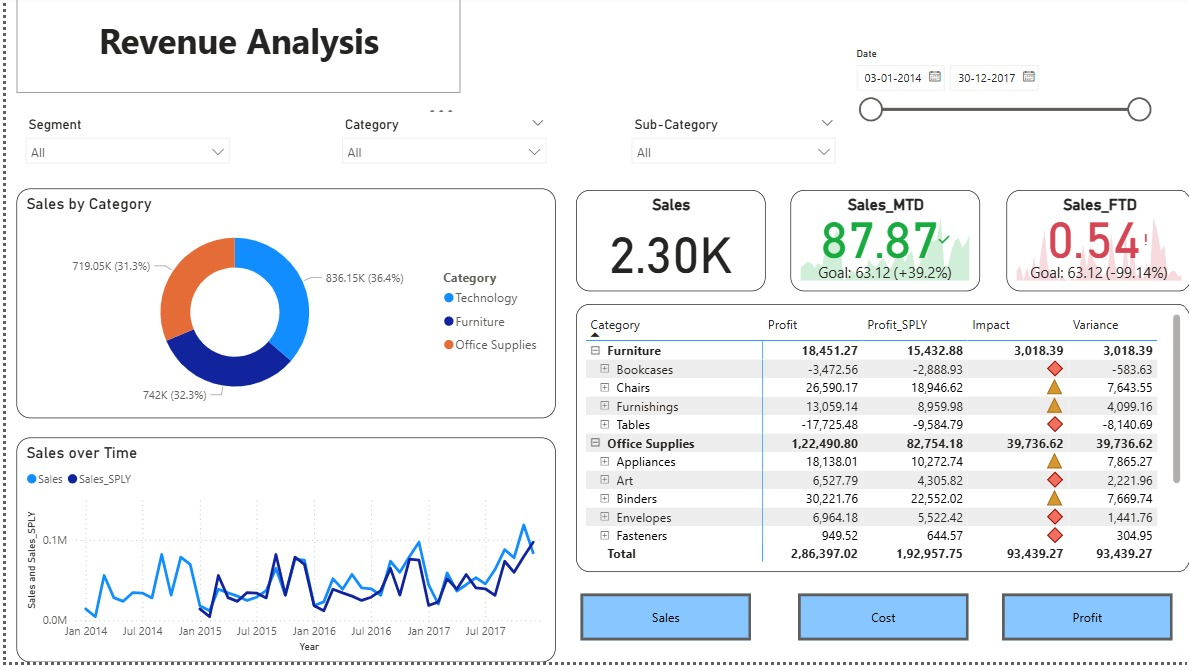

This screenshot's page, from the dashboard's own definition file:
{"tool":"powerbi","page":{"name":"Revenue Overview","canvas":[1280,720],"ordinal":0},"visuals":[{"type":"textbox","box":[11,0,480,104.8],"z":0},{"type":"donutChart","title":"Sales by Category","fields":{"Category":["Orders.Category"],"Y":["Sum(Orders.Sales)"]},"box":[11,209.7,582.1,248.3],"z":1000},{"type":"lineChart","title":"Sales over Time","fields":{"Y":["Measure_Table.Sales","Measure_Table.Sales_SPLY"],"Category":["Date.Date.Variation.Date Hierarchy.Year","Date.Date.Variation.Date Hierarchy.Month"]},"box":[11,477.2,582.1,242.8],"z":2000},{"type":"card","title":"Sales","fields":{"Values":["Measure_Table.Sales Thousand"]},"box":[615.7,210.6,204.6,109.4],"z":4000},{"type":"kpi","title":"Sales_MTD","fields":{"Indicator":["Measure_Table.Sales_MTD"],"TrendLine":["Date.Month"],"Goal":["Measure_Table.Sales Previous Month"]},"box":[846.6,210.6,204.6,109.4],"z":5000},{"type":"kpi","title":"Sales_FTD ","fields":{"Indicator":["Measure_Table.Sales_FTD"],"TrendLine":["Date.Month"],"Goal":["Measure_Table.Sales Previous Month"]},"box":[1079.5,210.6,200.5,109.4],"z":6000},{"type":"slicer","fields":{"Values":["Orders.Segment"]},"box":[11,126.9,240,74.5],"z":7000},{"type":"slicer","fields":{"Values":["Orders.Category"]},"box":[353.1,126.9,240,74.5],"z":8000},{"type":"slicer","fields":{"Values":["Orders.Sub-Category"]},"box":[664.8,126.9,240,74.5],"z":9000},{"type":"slicer","fields":{"Values":["Date.Date"]},"box":[904.8,52.4,339.3,113.1],"z":10000},{"type":"pivotTable","title":"Profit matrix","fields":{"Rows":["Orders.Category","Orders.Sub-Category","Orders.Product Name"],"Values":["Measure_Table.Profit","Measure_Table.Profit_SPLY","Measure_Table.Profit-Profit SPLYimpact","Measure_Table.Profit-profit SPLY"]},"box":[615.7,334.2,664.3,289.6],"z":12000},{"type":"actionButton","box":[619.7,646.1,184.3,50.6],"z":13000},{"type":"actionButton","box":[854.7,646.1,184.3,50.6],"z":14000},{"type":"actionButton","box":[1075.4,646.1,184.3,50.6],"z":15000}]}

Visuals, with their boxes in screenshot pixels (x1, y1, x2, y2), scaled from the page's 1280x720 canvas onto the 1189x670 screenshot:
textbox: BBox(10, 0, 456, 98)
"Sales by Category" donutChart: BBox(10, 195, 551, 426)
"Sales over Time" lineChart: BBox(10, 444, 551, 669)
"Sales" card: BBox(572, 196, 762, 298)
"Sales_MTD" kpi: BBox(786, 196, 976, 298)
"Sales_FTD " kpi: BBox(1003, 196, 1188, 298)
slicer - Orders.Segment: BBox(10, 118, 233, 187)
slicer - Orders.Category: BBox(328, 118, 551, 187)
slicer - Orders.Sub-Category: BBox(618, 118, 840, 187)
slicer - Date.Date: BBox(840, 49, 1156, 154)
"Profit matrix" pivotTable: BBox(572, 311, 1188, 580)
actionButton: BBox(576, 601, 747, 648)
actionButton: BBox(794, 601, 965, 648)
actionButton: BBox(999, 601, 1170, 648)
